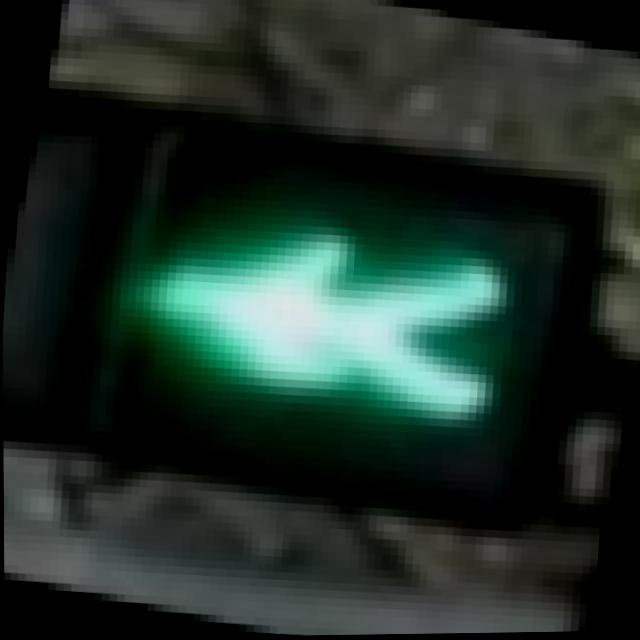green_light: (81, 124, 577, 524)
